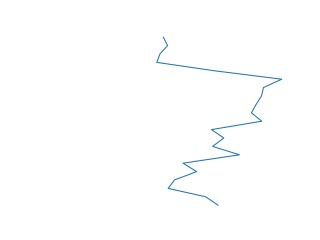floodPlain: (154, 35, 285, 207)
